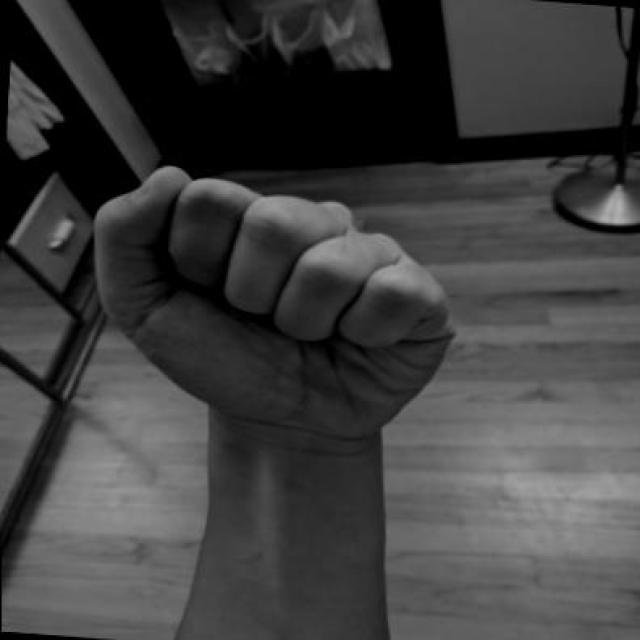A: (85, 145, 465, 502)
